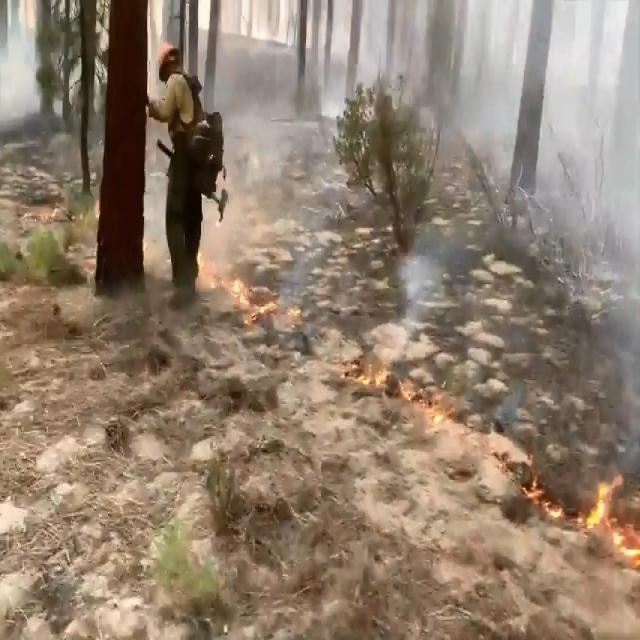Fire: (198, 240, 640, 571)
